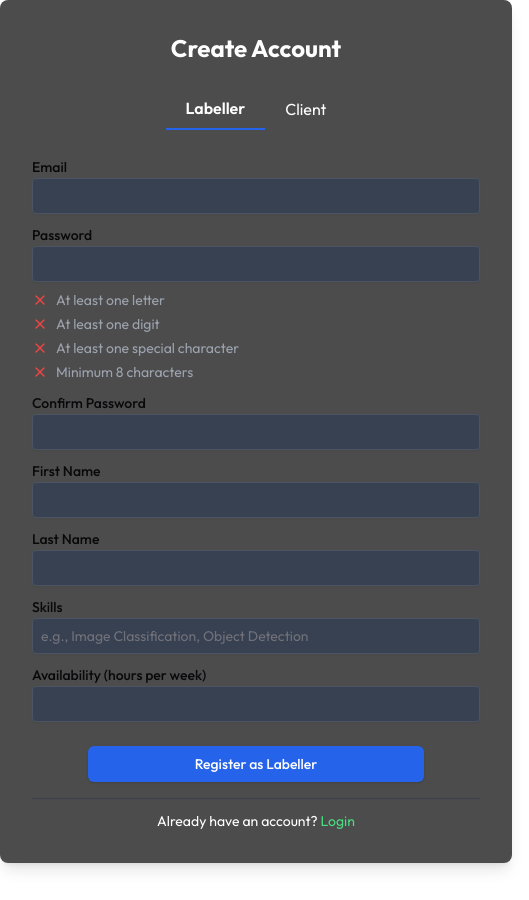
Test case: RegisterBox Component › shows error if registration fails
The width and height of the screenshot is (529, 900).
Step 1. Type "test@example.com" into the field labelled "Email" → (256, 196), box [32,178,480,214]
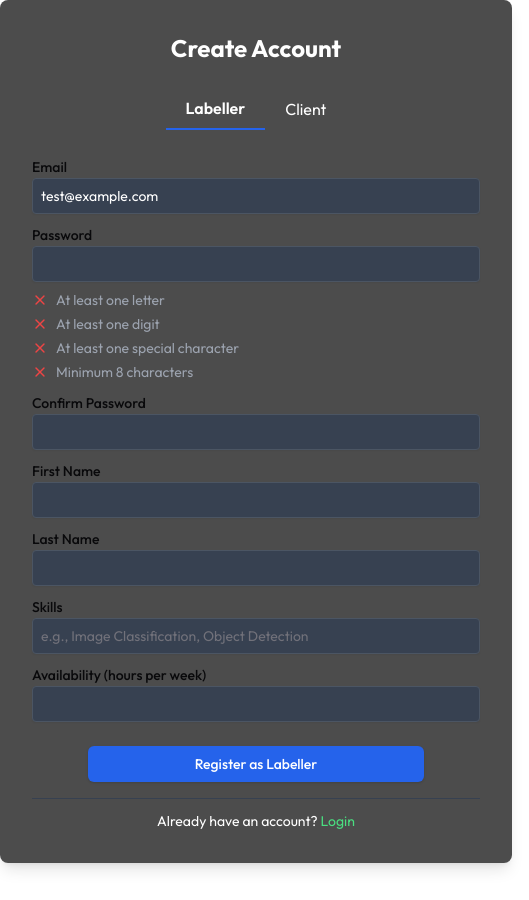
Step 2. Type "Password123!" into the password field labelled "Password" → (256, 264), box [32,246,480,282]
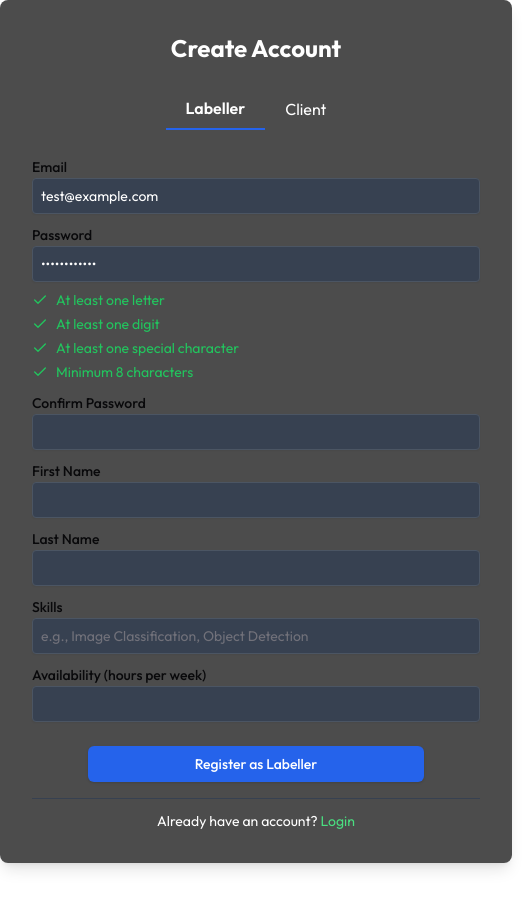
Step 3. Type "Password123!" into the password field labelled "Confirm Password" → (256, 432), box [32,414,480,450]
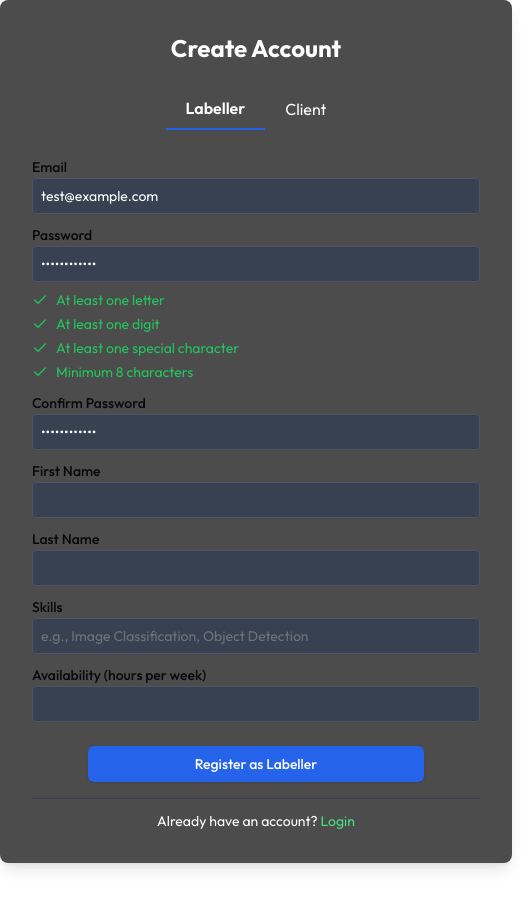
Step 4. Submit the form from the button "Register as Labeller", box [88,746,424,782]
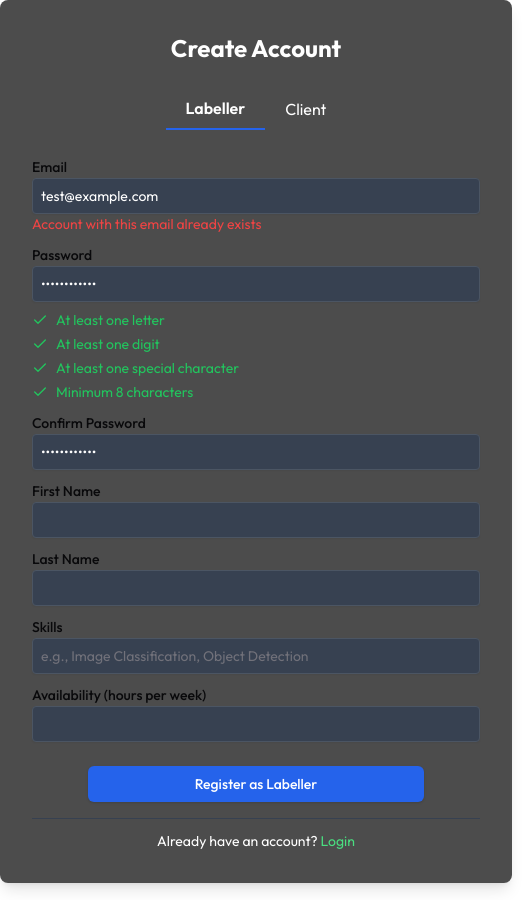
Result: the text "Account with this email already exists" is shown at [32,215,262,233]
